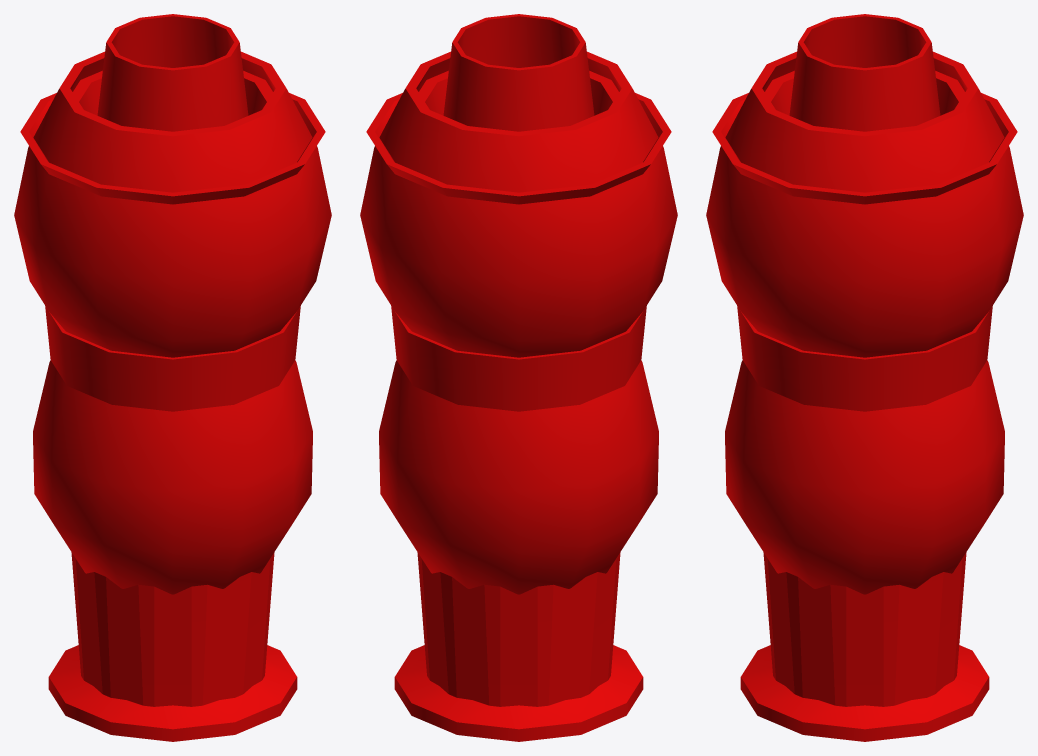
Rendered from Glasses.fbx.
3 views of the same model, side by side, from view 1: azimuth 30°, elevation 25°; view 2: azimuth 150°, elevation 25°; view 3: azimuth 270°, elevation 25° (orthographic).
Visible parts, largest first — view 1: Glasses_6, Glasses_5, Glasses_3, Glasses_4, Glasses_2, Glasses_1; view 2: Glasses_6, Glasses_5, Glasses_3, Glasses_4, Glasses_2, Glasses_1; view 3: Glasses_6, Glasses_5, Glasses_3, Glasses_4, Glasses_2, Glasses_1.
Boxes of the visible parts, x1,y1,x2,y2 form: Glasses_6: (14,51,331,741); Glasses_5: (33,360,312,594); Glasses_3: (45,306,300,706); Glasses_4: (97,14,248,131); Glasses_2: (20,93,325,204); Glasses_1: (73,70,272,115); Glasses_6: (360,51,677,741); Glasses_5: (379,360,658,594); Glasses_3: (391,305,646,706); Glasses_4: (443,14,594,131); Glasses_2: (366,93,671,204); Glasses_1: (419,70,618,115); Glasses_6: (706,51,1023,741); Glasses_5: (725,360,1004,594); Glasses_3: (737,306,992,706); Glasses_4: (789,14,940,131); Glasses_2: (712,93,1017,204); Glasses_1: (765,70,964,115).
Bounding box in the file's own units: 18.16 × 40.92 × 18.16.
